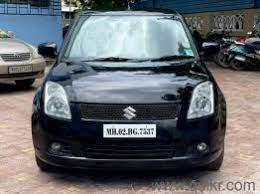Hatchback: (28, 8, 227, 175), (0, 29, 46, 92)
